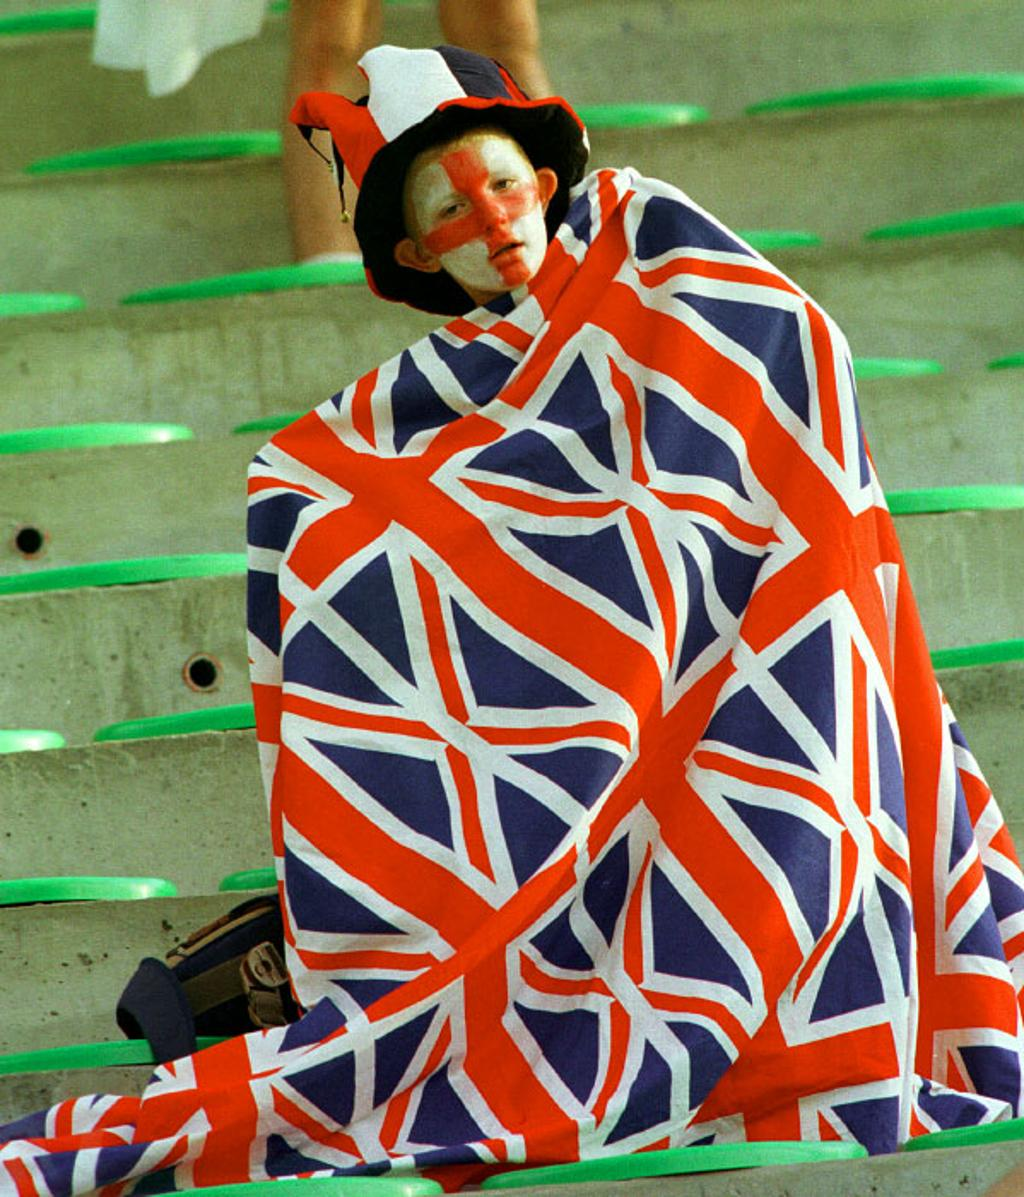face: (414, 157, 547, 281)
